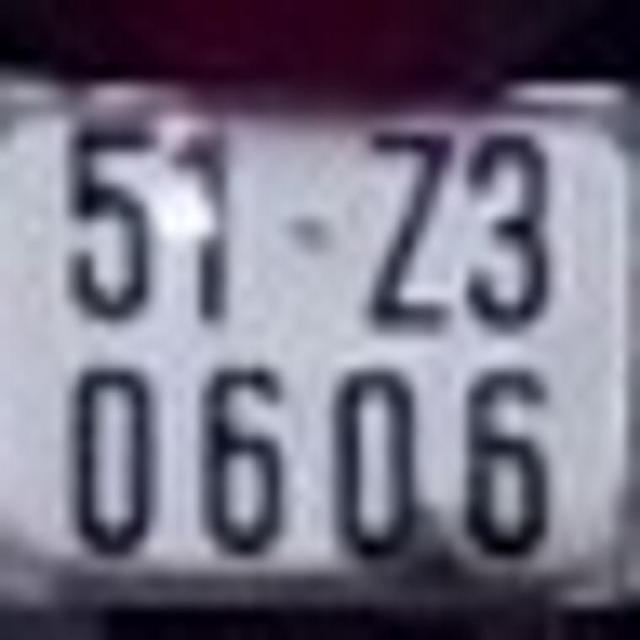0: (323, 356, 423, 559), (64, 358, 160, 556)
1: (166, 120, 244, 330)
3: (465, 124, 551, 333)
5: (58, 112, 160, 327)
6: (459, 358, 557, 556), (196, 356, 286, 558)
Z: (364, 118, 460, 340)
